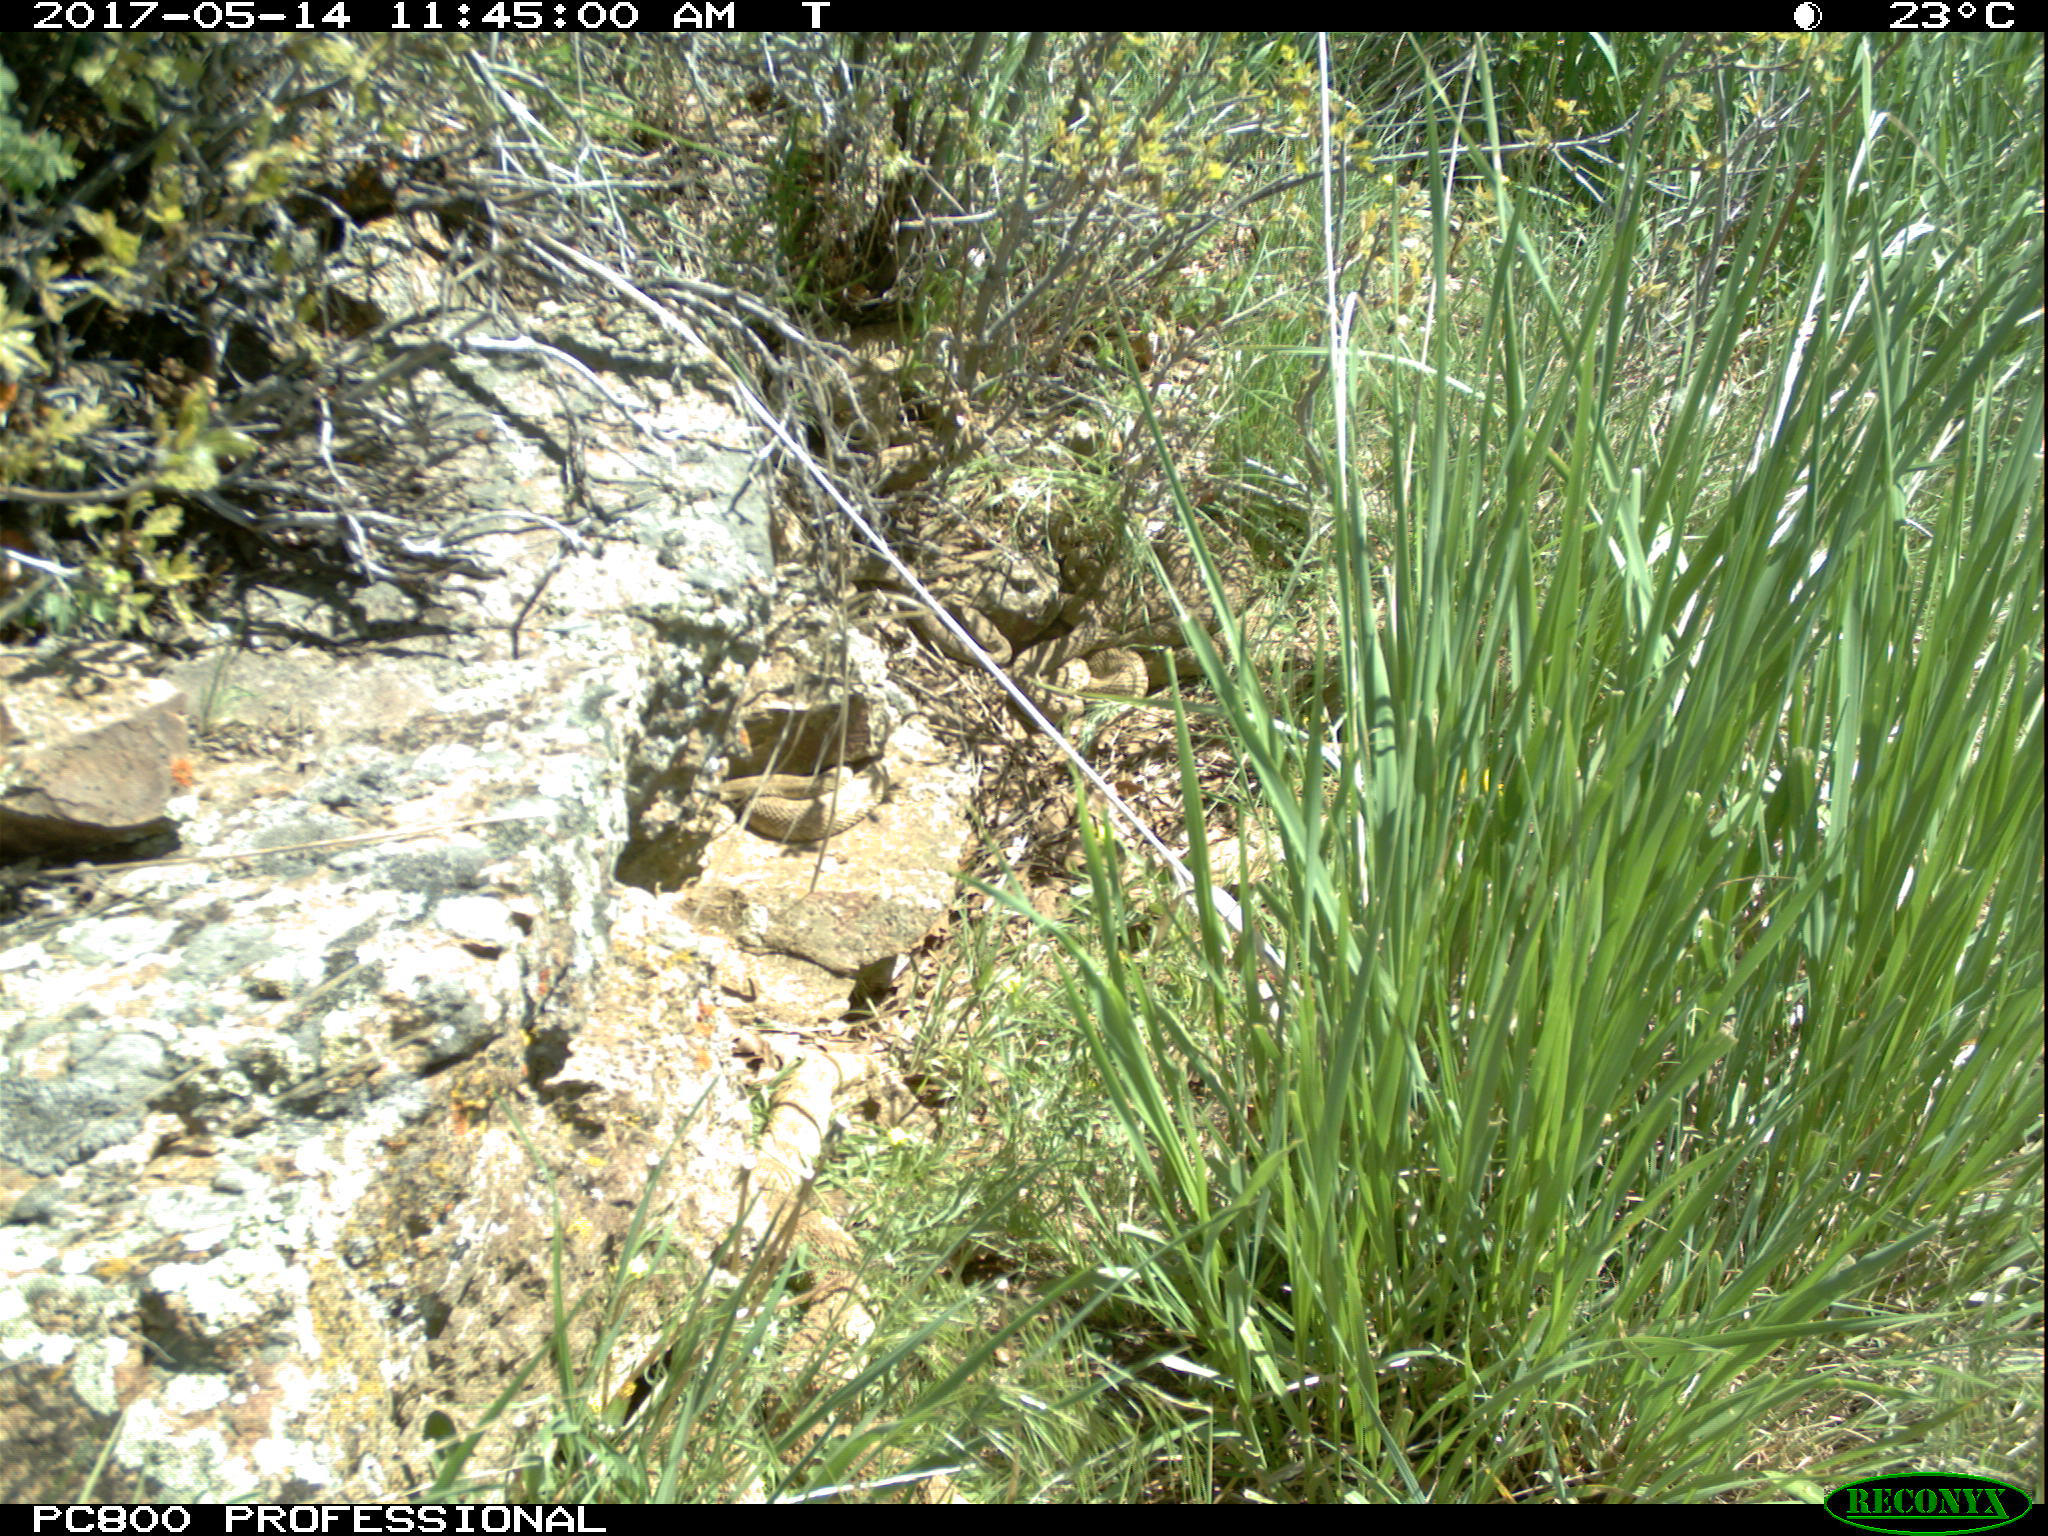snake: (747, 1054, 876, 1379), (914, 553, 1056, 670), (726, 760, 900, 844), (1014, 624, 1155, 718), (1143, 578, 1264, 678)
